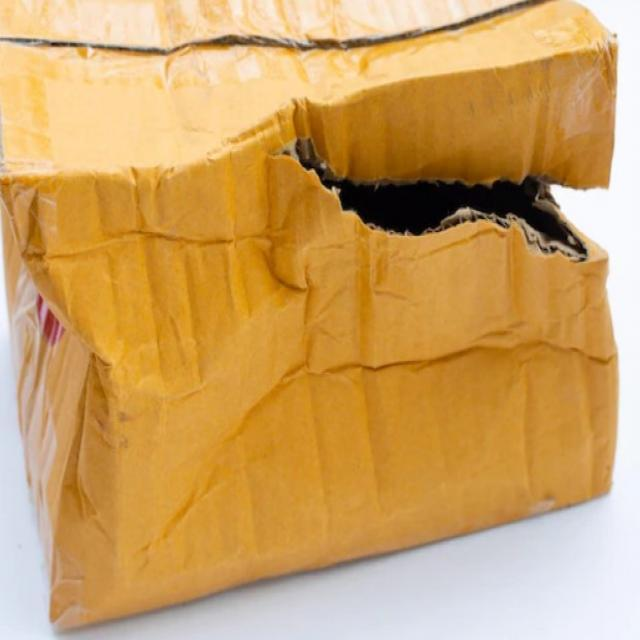hole: (302, 130, 614, 302)
